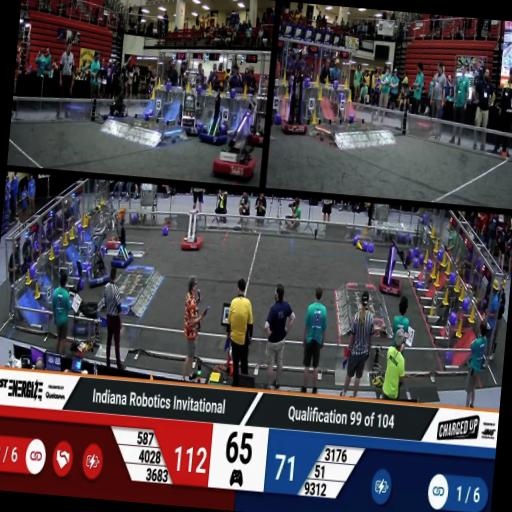robot: (212, 100, 262, 185), (101, 206, 140, 268), (174, 68, 208, 136), (380, 236, 416, 300), (84, 228, 116, 287), (198, 90, 230, 145), (248, 70, 270, 144), (101, 90, 135, 128), (68, 303, 102, 338), (182, 208, 208, 253), (105, 222, 123, 250)
